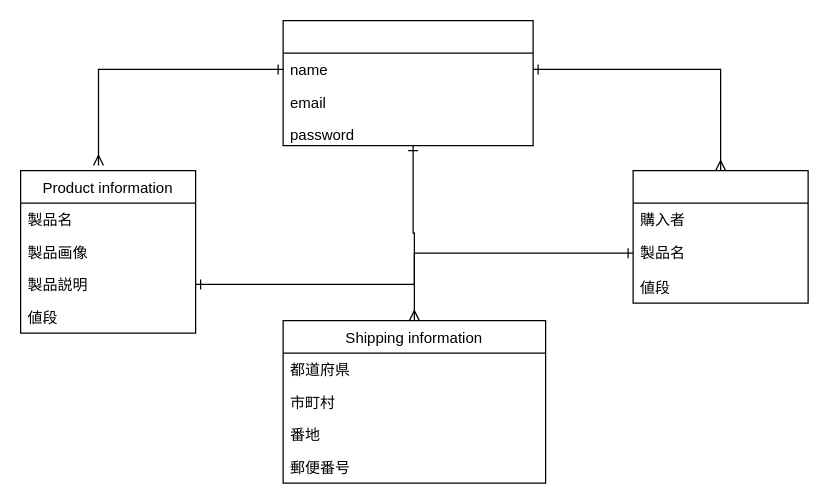
Some shapes in this 829 by 504 pixel diagram are drawn without their labels. The shapes that lost their labels are listed below. From the top down, each one's box as (x1, y1, x2, y2) in pixels, then its label:
(282, 19, 533, 146): users
(632, 169, 808, 303): Purchase record
